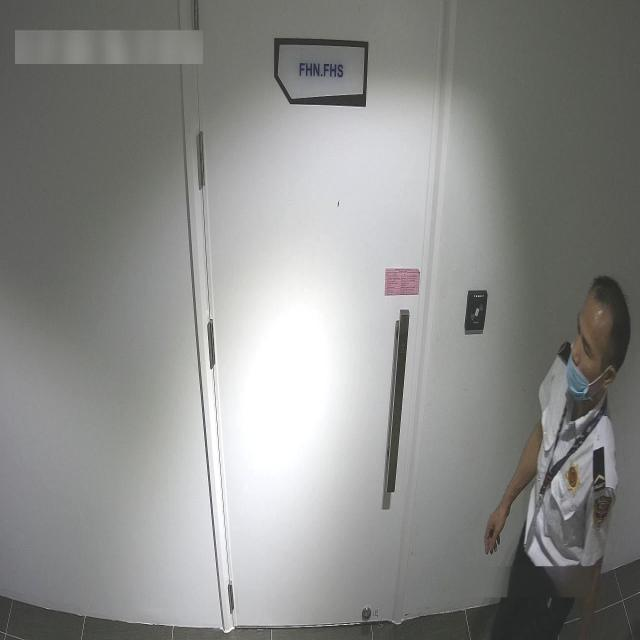hairnet: (567, 308, 598, 398)
